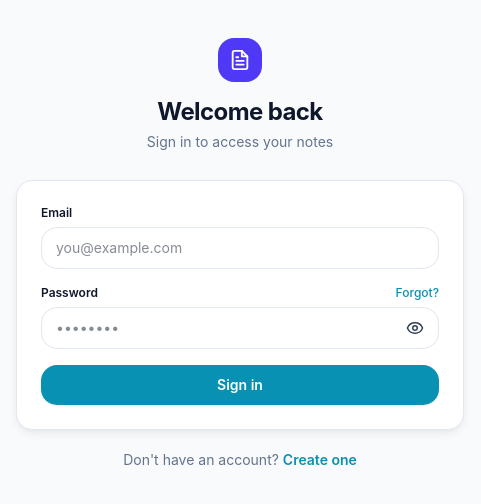
LoginPage › Form Validation › should show validation errors when form is empty
This screenshot has width=481, height=504.
Click the button "Sign in" at (240, 385), box left=41, top=365, right=439, bottom=405
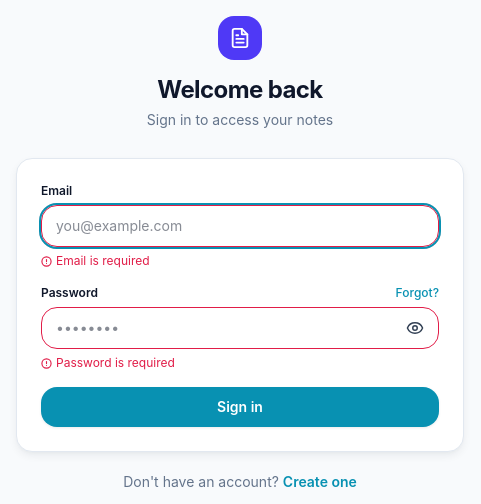
Result: the text "Email is required" is shown at left=41, top=253, right=150, bottom=268
Result: the text "Password is required" is shown at left=41, top=355, right=175, bottom=370
